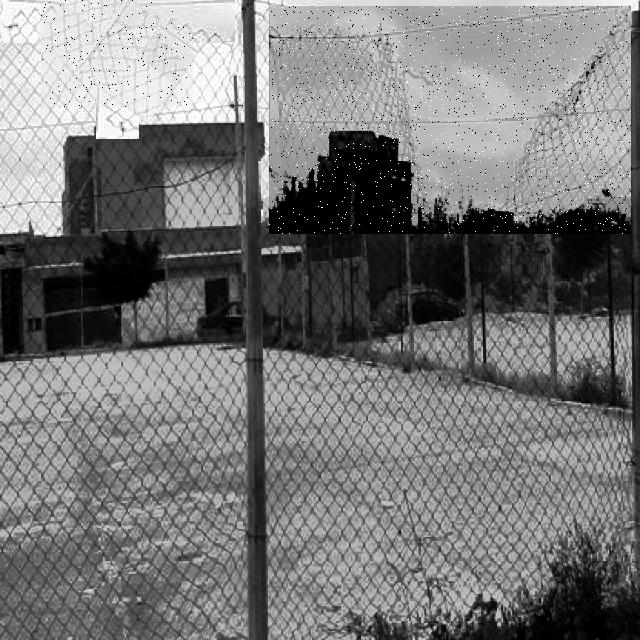anomaly-fence: (269, 6, 631, 234), (41, 0, 193, 107)
